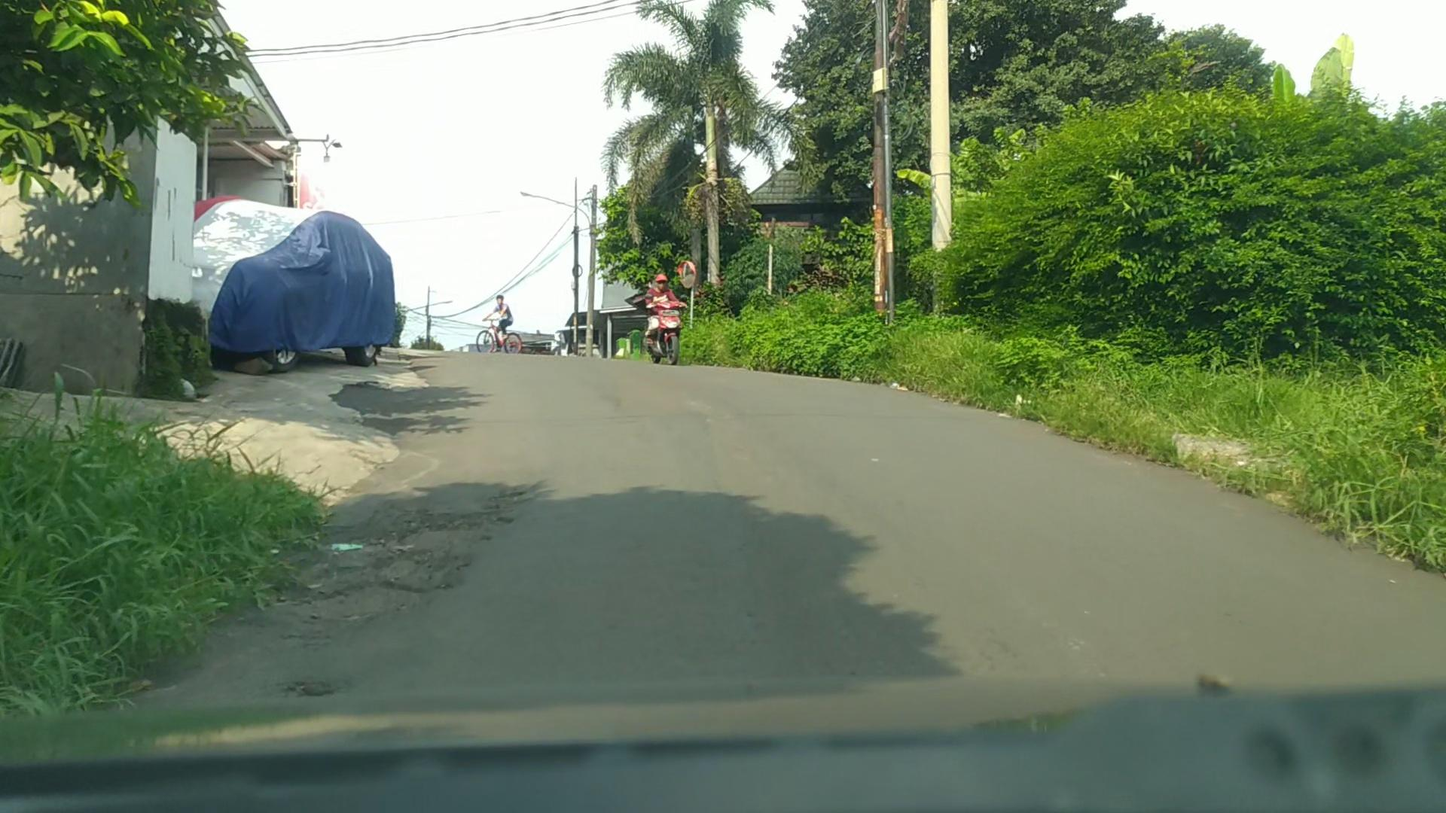pothole: (282, 481, 535, 627), (279, 675, 343, 699)
